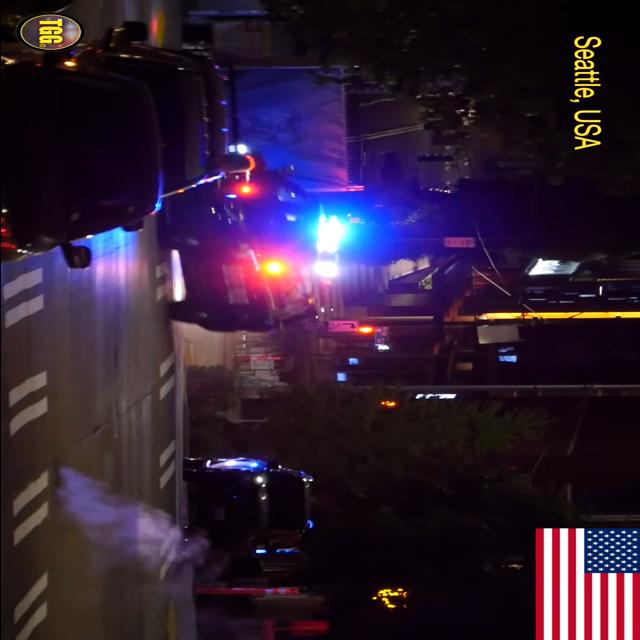emergency-vehicles: (152, 134, 348, 350)
